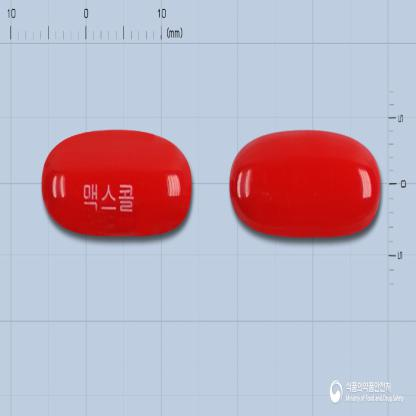pill: (228, 128, 383, 239), (40, 127, 192, 238)
